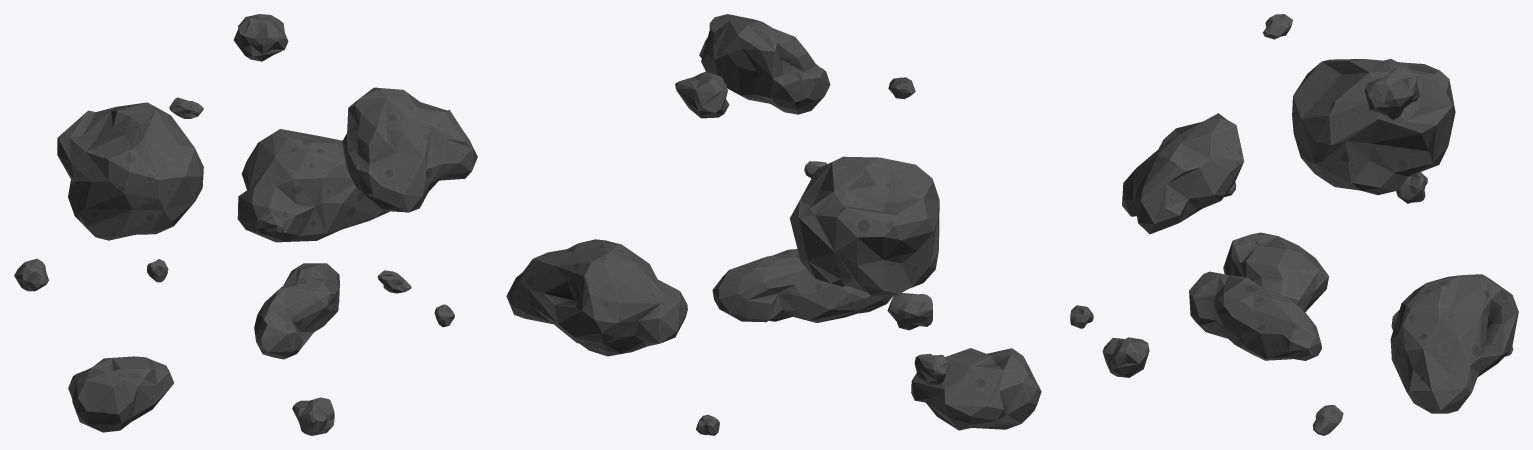
3 renders of one model, left to right at view 1: azimuth 30°, elevation 25°; view 2: azimuth 150°, elevation 25°; view 3: azimuth 270°, elevation 25°, orthographic. The views are drawn at different scales.
Visible parts, largest first — view 1: Asteroids; view 2: Asteroids; view 3: Asteroids.
Boxes of the visible parts, x1,y1,x2,y2 form: Asteroids: (14,14,477,435); Asteroids: (506,14,1041,435); Asteroids: (1070,14,1518,435).
Size of the model in its own units: 20.66 by 15.48 by 18.01.
1 material, 1 textured.
